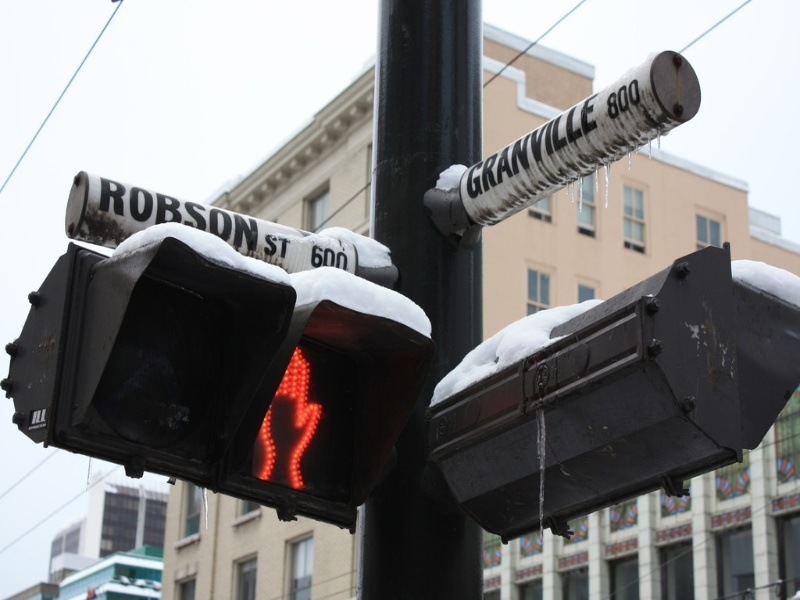wait: (247, 246, 414, 535)
